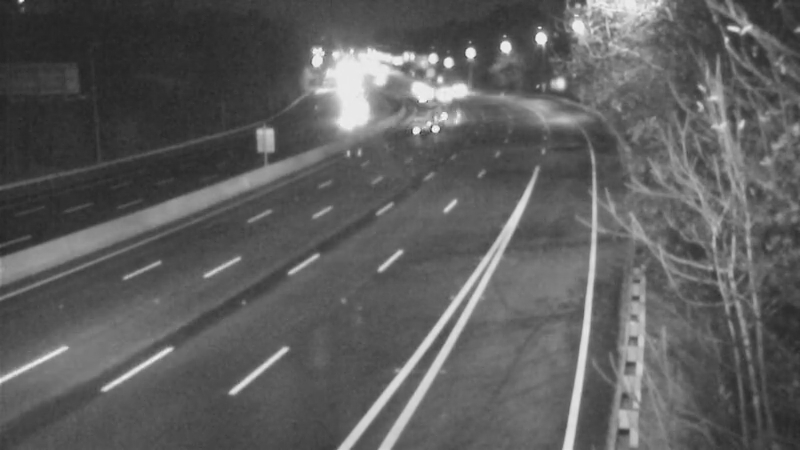vehicle: (417, 65, 467, 115), (435, 65, 485, 115), (401, 85, 451, 135), (317, 90, 367, 140)
